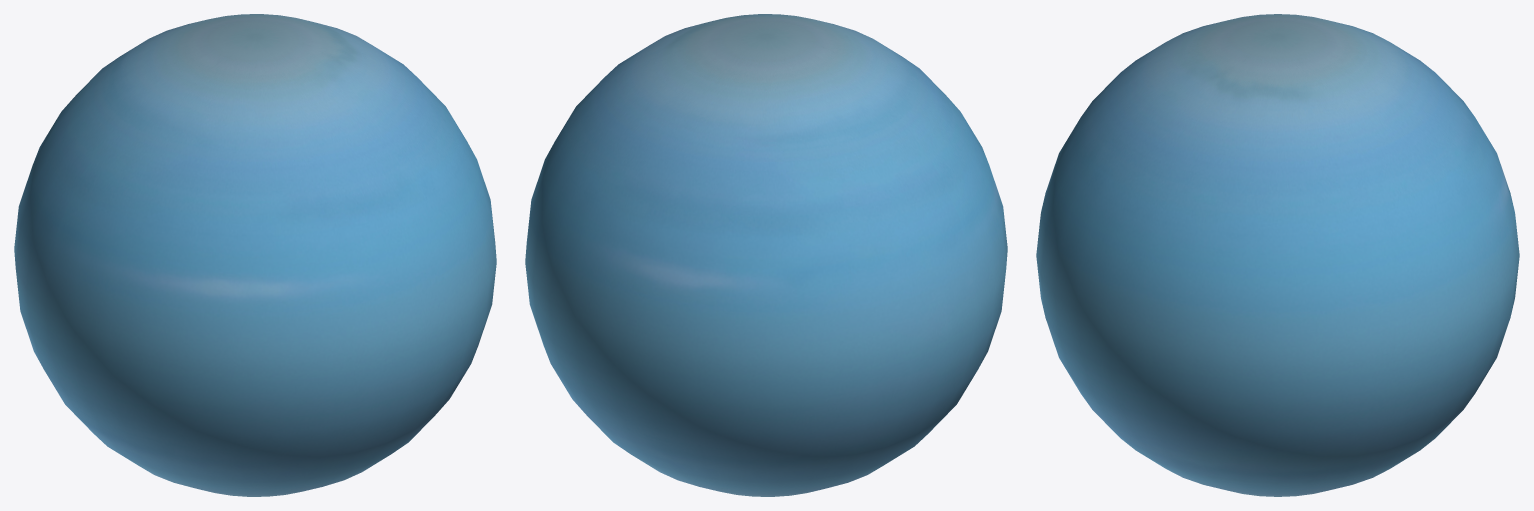
Rendered from Uranus.glb.
The picture shows the model from 3 angles, left to right: view 1: azimuth 30°, elevation 25°; view 2: azimuth 150°, elevation 25°; view 3: azimuth 270°, elevation 25°; orthographic projection.
Parts seen in each view (by area): view 1: Material_001-material; view 2: Material_001-material; view 3: Material_001-material.
Boxes of the visible parts, x1,y1,x2,y2 form: Material_001-material: (14, 14, 496, 496); Material_001-material: (525, 14, 1007, 496); Material_001-material: (1036, 14, 1519, 496).
Bounding box in the file's own units: 0.3618 × 0.3618 × 0.3618.
1 material, 1 textured.
